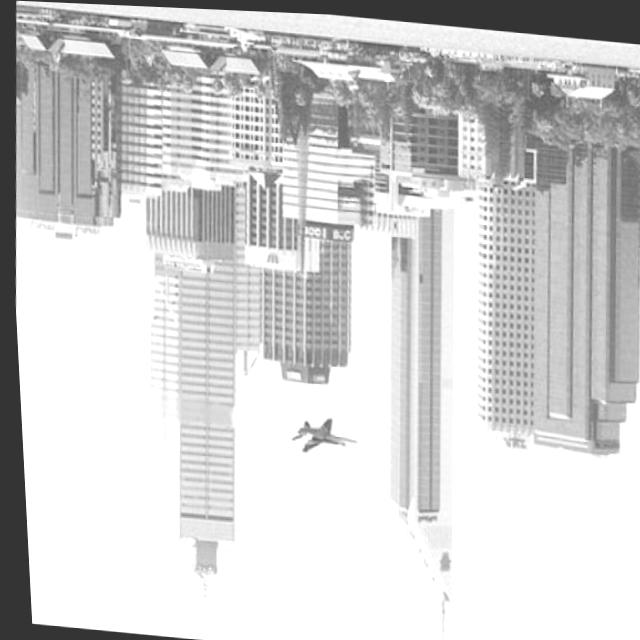aeroplane: (283, 408, 353, 460)
